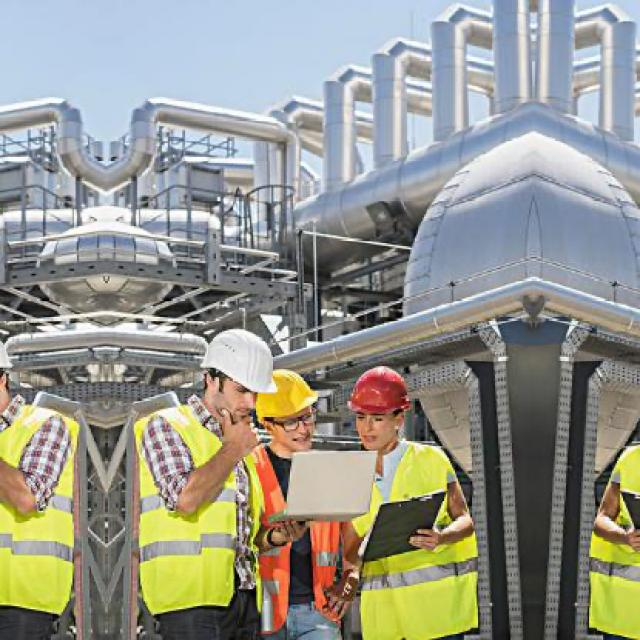Reflective-Jacket: (130, 408, 262, 623), (350, 442, 483, 638), (0, 397, 88, 620), (584, 432, 640, 638)
Safety-Helmet: (196, 323, 282, 397), (251, 366, 324, 425), (344, 360, 415, 420), (0, 332, 19, 380)
